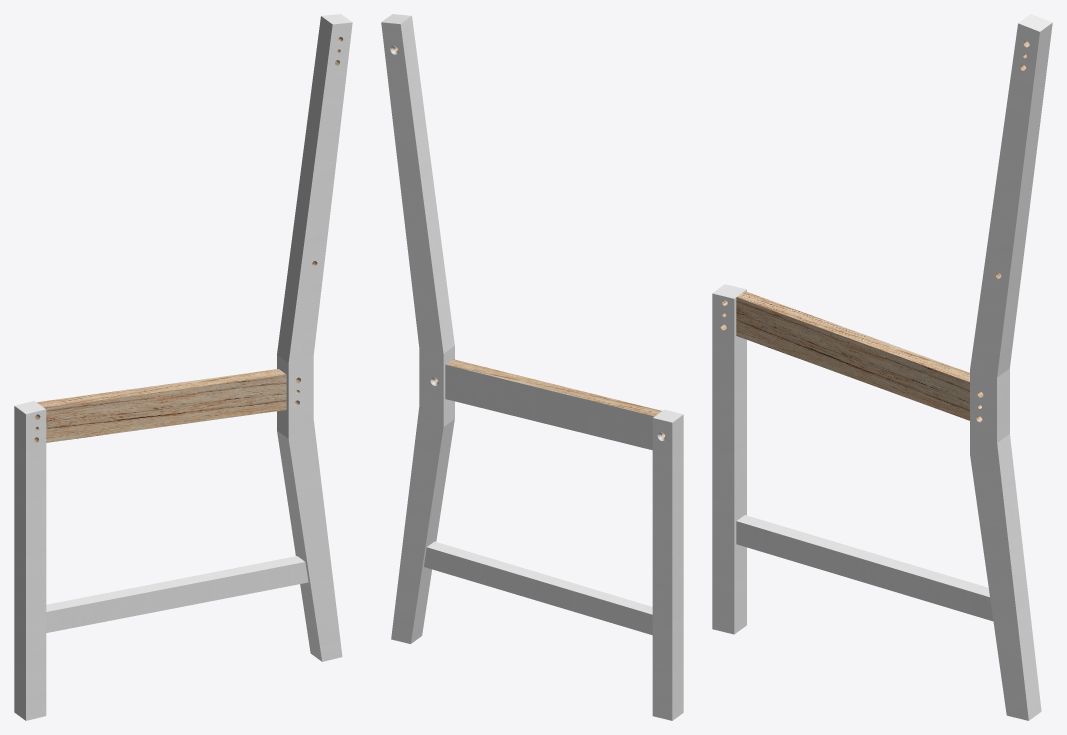
Rendered from Ikea_stefan_side_right.obj.
3 views of the same model, side by side, from view 1: azimuth 30°, elevation 25°; view 2: azimuth 150°, elevation 25°; view 3: azimuth 330°, elevation 25° (orthographic). The views are drawn at different scales.
Visible parts, largest first — view 1: Ikea_stefan_side_right; view 2: Ikea_stefan_side_right; view 3: Ikea_stefan_side_right.
Boxes of the visible parts, bbox=[...] form: Ikea_stefan_side_right: bbox=[14, 14, 352, 720]; Ikea_stefan_side_right: bbox=[381, 14, 683, 720]; Ikea_stefan_side_right: bbox=[712, 14, 1052, 720].
Bounding box in the file's own units: 465 × 901 × 65.
1 material, 1 textured.
